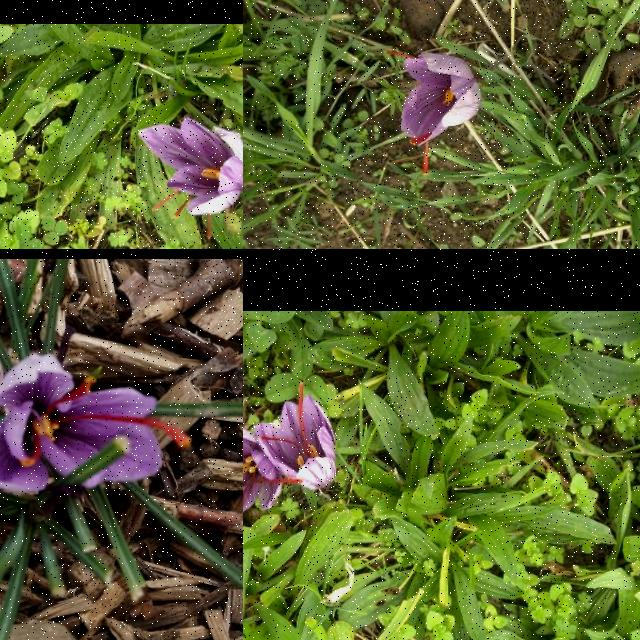flower: (0, 353, 193, 495), (139, 113, 243, 239), (386, 51, 482, 173)
overlap: (243, 370, 336, 518)
